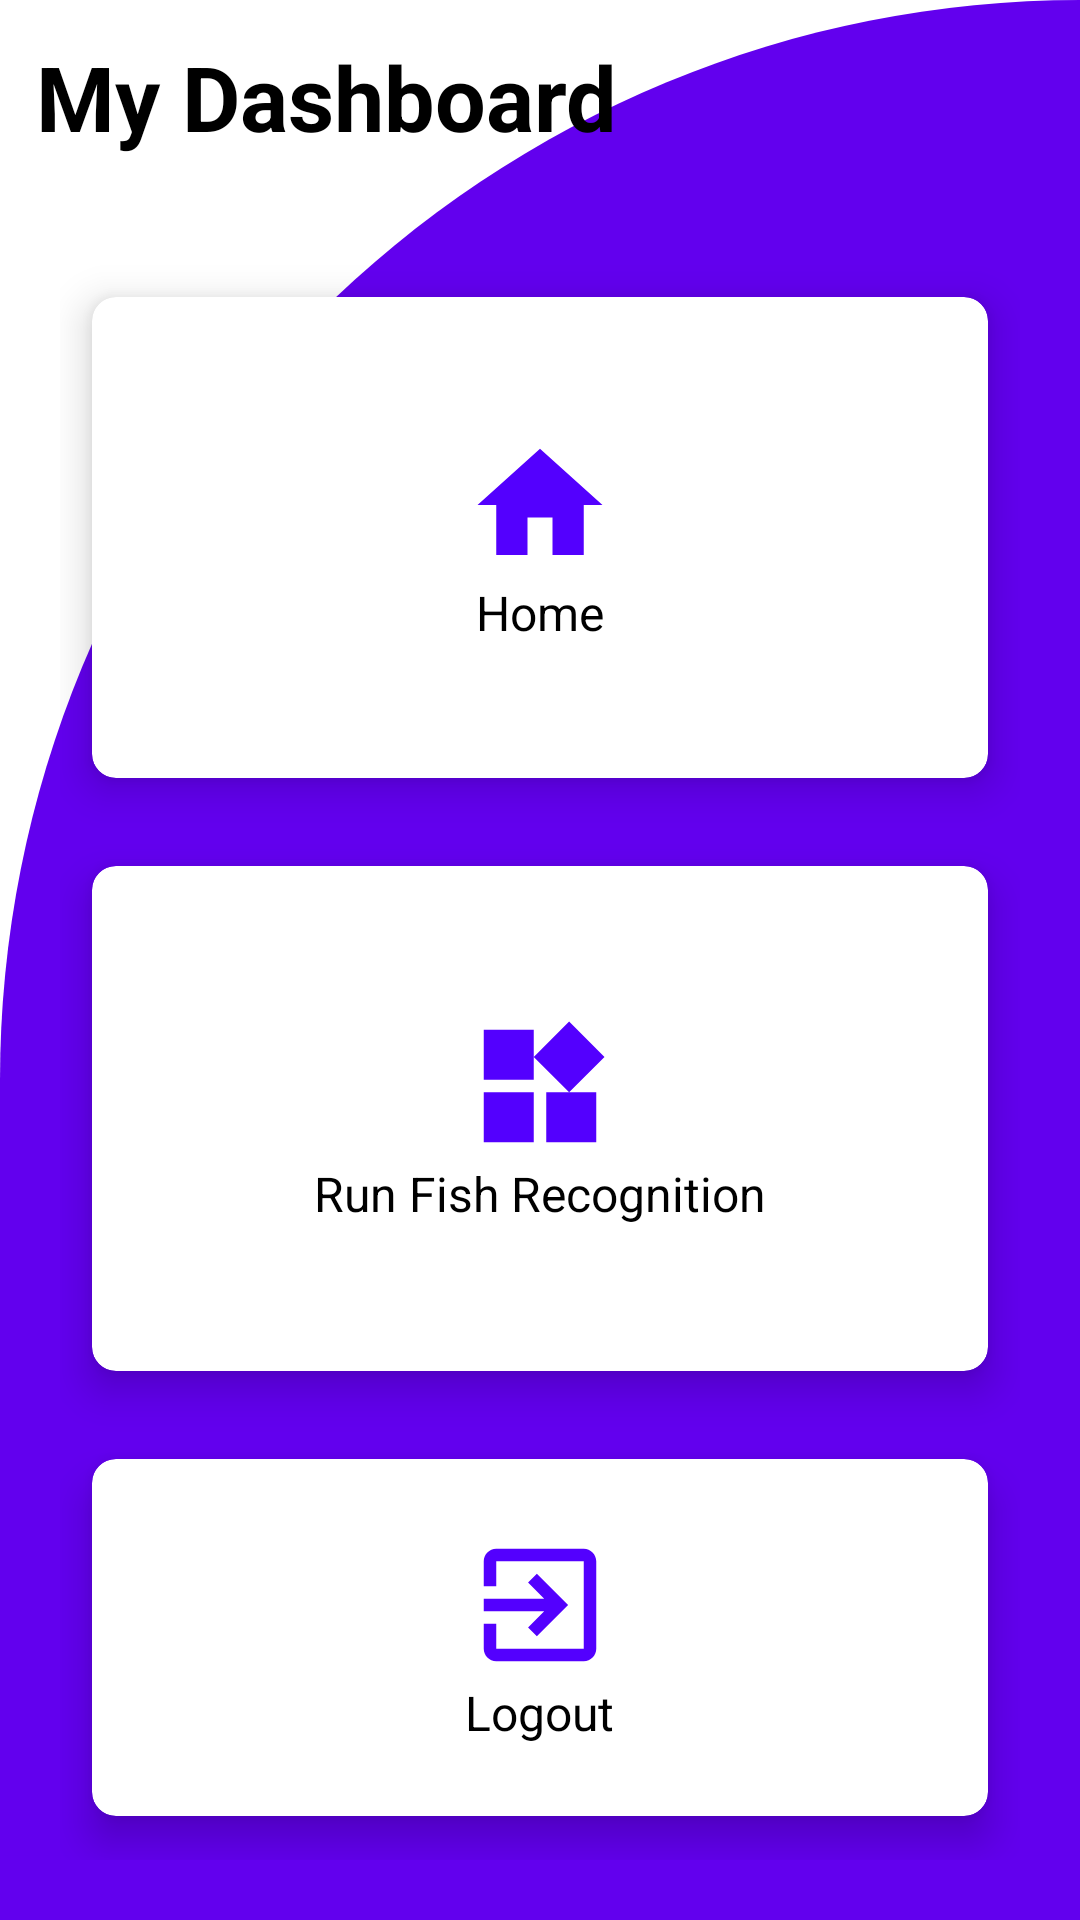

Where to tap for icons on this 1080×1920 app screen, as point (x, y):
widgets: point (544, 1082)
